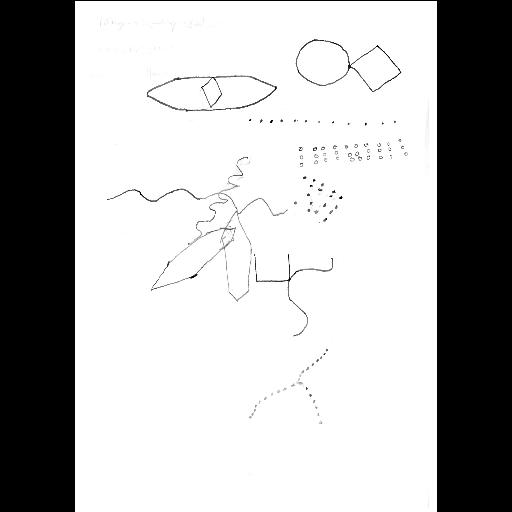shape-1: (294, 36, 402, 94)
shape-2: (242, 110, 402, 128)
shape-3: (298, 132, 410, 170)
shape-4: (290, 170, 344, 226)
shape-5: (252, 249, 334, 337)
shape-6: (248, 344, 330, 426)
shape-7: (104, 155, 288, 245)
shape-8: (150, 211, 256, 301)
shape-9: (146, 74, 278, 112)
